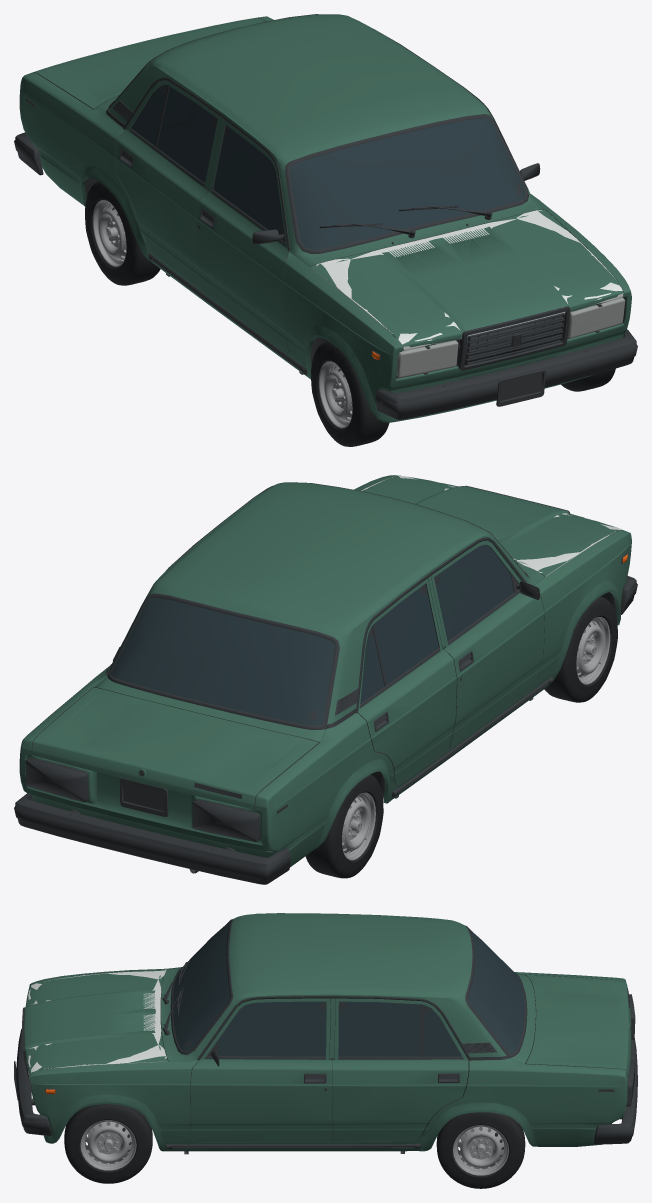
File: vaz2105.glb
3 renders of one model, top to bottom at view 1: azimuth 30°, elevation 25°; view 2: azimuth 150°, elevation 25°; view 3: azimuth 270°, elevation 25°, orthographic. The views are drawn at different scales.
Visible parts, largest first — view 1: chassisbody, glass, chassis_trim, interior, wheel_fr, wheel_rr, headlights, front_auxiliary, wheel_fl; view 2: chassisbody, glass, chassis_trim, interior, wheel_rr, wheel_fr, headlights; view 3: chassisbody, glass, chassis_trim, wheel_fl, wheel_rl, interior, headlights.
Boxes of the visible parts, x1,y1,x2,y2 form: chassisbody: (19, 14, 631, 422); glass: (111, 85, 525, 249); chassis_trim: (14, 17, 637, 419); interior: (26, 14, 572, 382); wheel_fr: (311, 341, 389, 446); wheel_rr: (85, 181, 160, 285); headlights: (310, 210, 623, 350); front_auxiliary: (396, 297, 625, 377); wheel_fl: (561, 368, 615, 391); chassisbody: (19, 475, 631, 867); glass: (110, 545, 513, 725); chassis_trim: (14, 479, 637, 884); interior: (69, 482, 616, 872); wheel_rr: (305, 774, 383, 878); wheel_fr: (544, 596, 617, 702); headlights: (361, 476, 621, 576); chassisbody: (24, 913, 631, 1151); glass: (173, 921, 524, 1056); chassis_trim: (14, 958, 637, 1144); wheel_fl: (64, 1104, 152, 1183); wheel_rl: (436, 1112, 525, 1188); interior: (31, 913, 622, 1154); headlights: (27, 969, 167, 1074).
Size of the model in its own units: 1.83 by 1.48 by 4.26.
